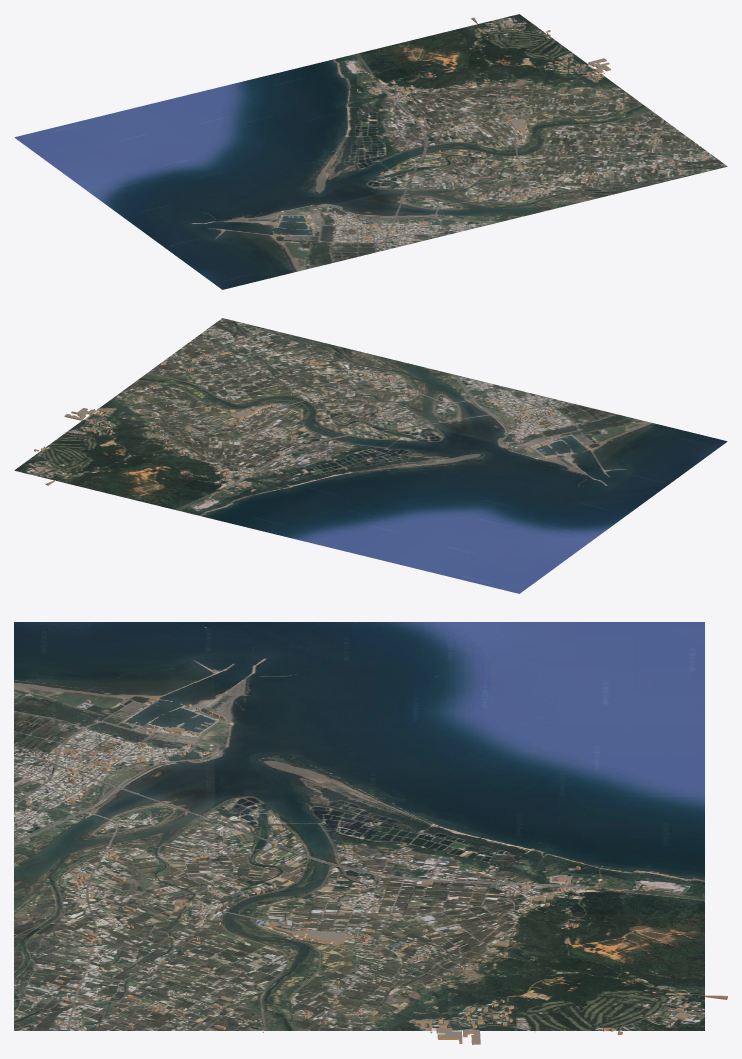
The model's file is Nanliao.glb.
3 renders of one model, top to bottom at view 1: azimuth 30°, elevation 25°; view 2: azimuth 150°, elevation 25°; view 3: azimuth 270°, elevation 25°, orthographic. The views are drawn at different scales.
Visible parts, largest first — view 1: EXPORT_GOOGLE_SAT_WM, map_10.osm_buildings; view 2: EXPORT_GOOGLE_SAT_WM, map_10.osm_buildings; view 3: EXPORT_GOOGLE_SAT_WM, map_10.osm_buildings.
Part boxes in pixels (bbox=[...]): EXPORT_GOOGLE_SAT_WM: bbox=[14, 14, 727, 289]; map_10.osm_buildings: bbox=[273, 17, 706, 249]; EXPORT_GOOGLE_SAT_WM: bbox=[14, 318, 727, 593]; map_10.osm_buildings: bbox=[34, 328, 607, 491]; EXPORT_GOOGLE_SAT_WM: bbox=[14, 622, 704, 1030]; map_10.osm_buildings: bbox=[55, 697, 727, 1044].
Bounding box in the file's own units: 7966 × 21.4 × 5687.
Materials: 3 (1 with a texture image).
